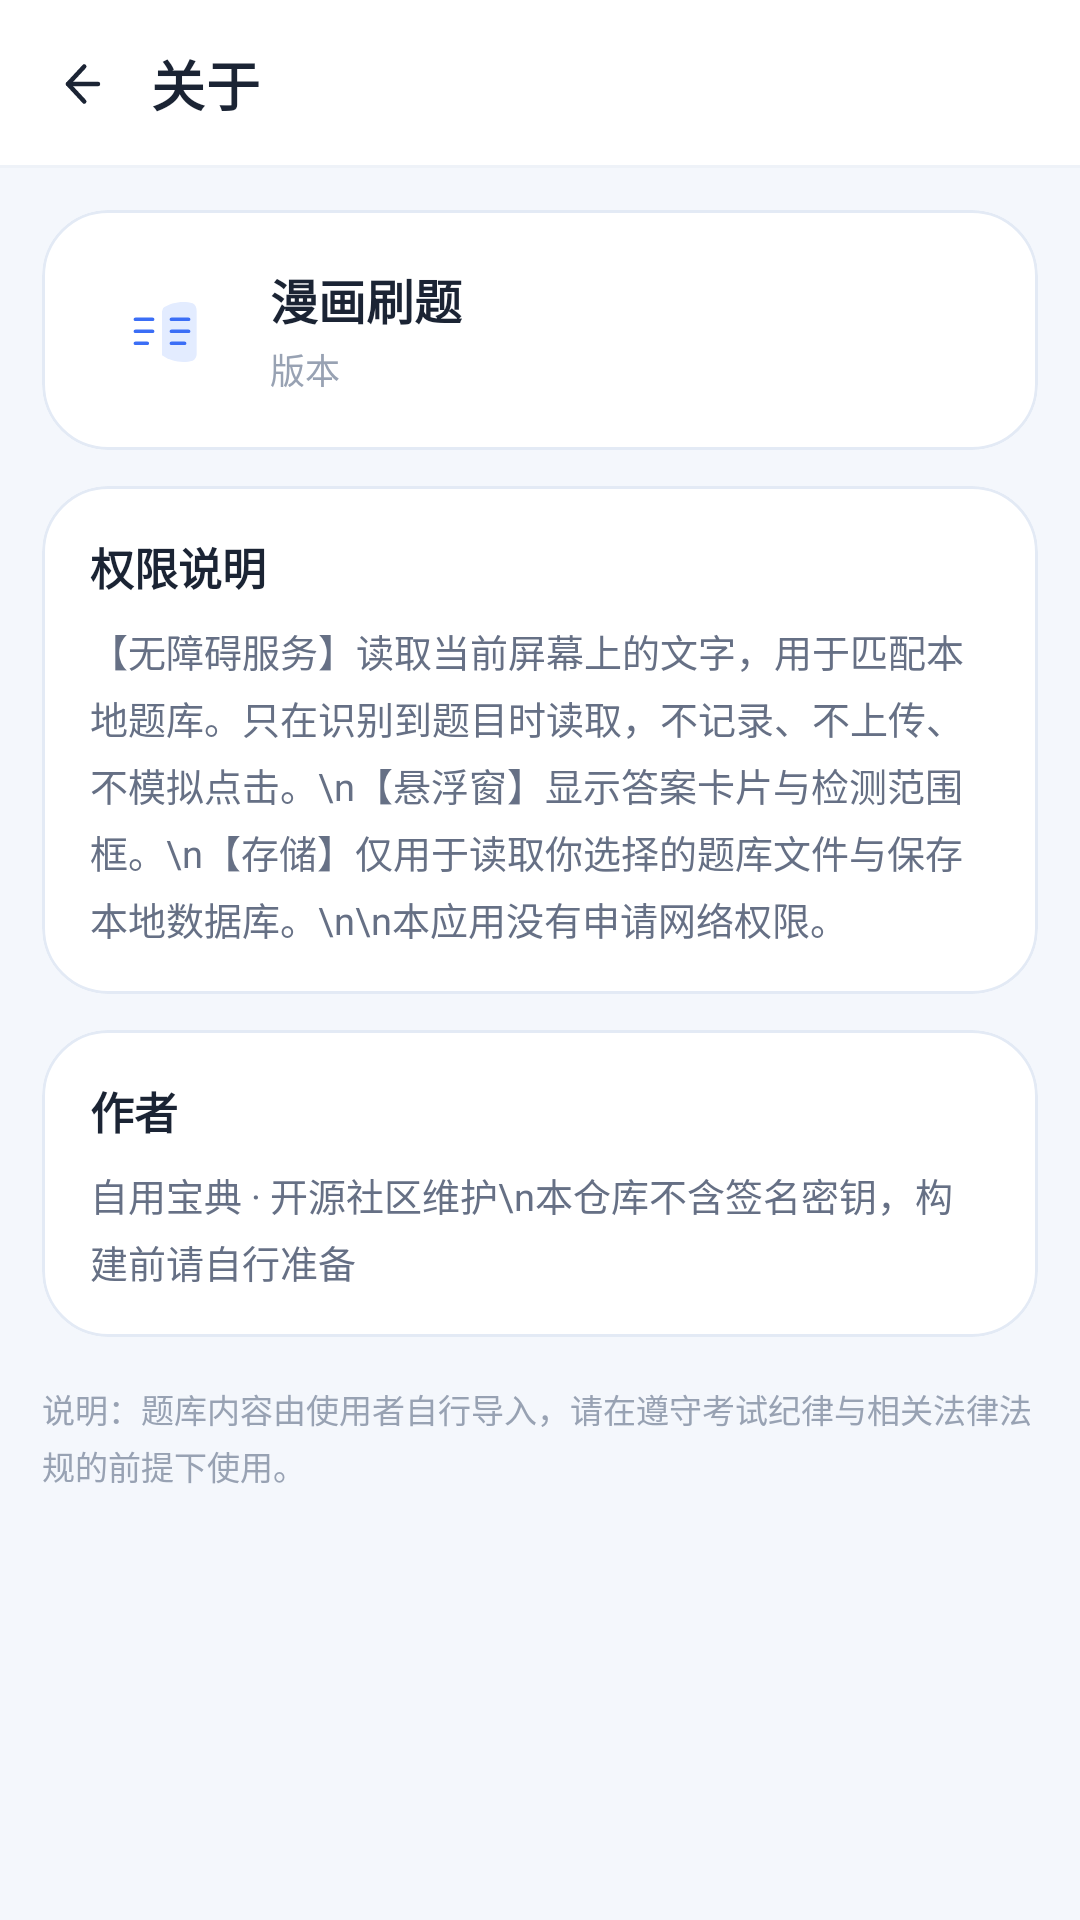

Icons on this 1080px x 1920px Android screen, each with the point to tap as point (x, y):
back: point (82, 84)
